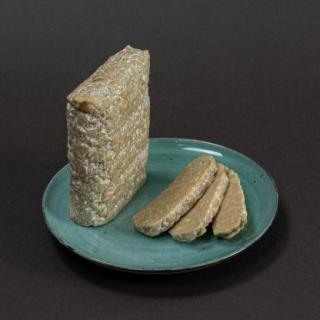Tempe: (63, 44, 150, 230), (130, 154, 250, 246)
